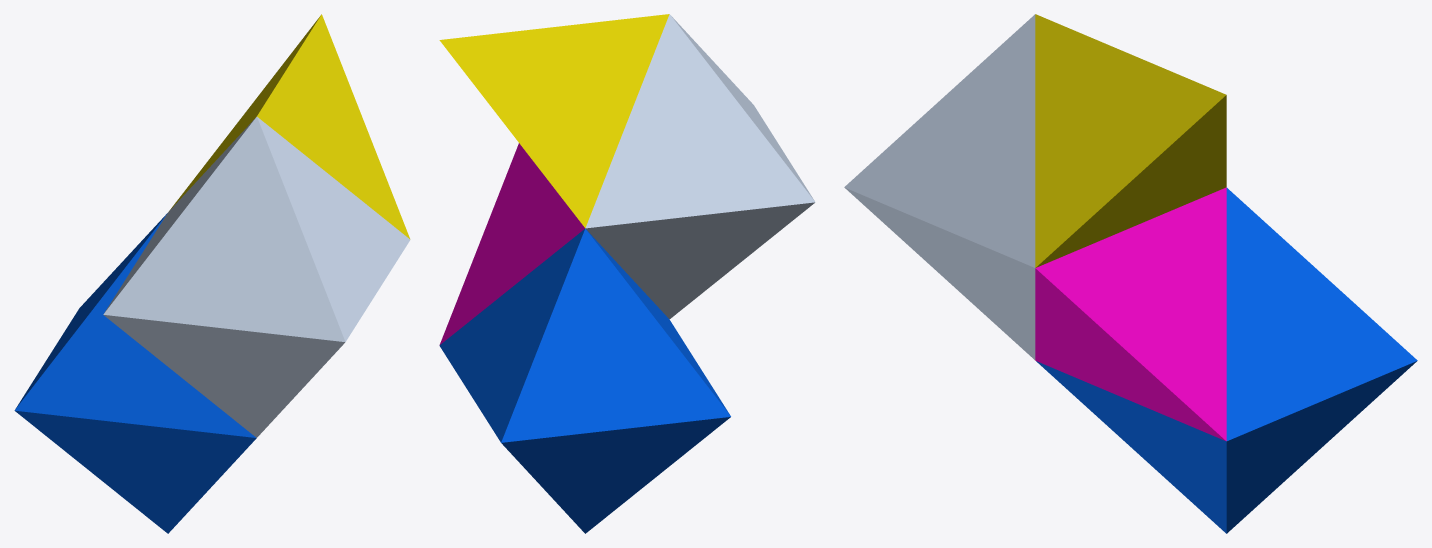
The model's file is octTet_2.glb.
The picture shows the model from 3 angles, left to right: view 1: azimuth 30°, elevation 25°; view 2: azimuth 150°, elevation 25°; view 3: azimuth 270°, elevation 25°; orthographic projection. The views are drawn at different scales.
Bounding box in the file's own units: 4 × 6 × 6.
